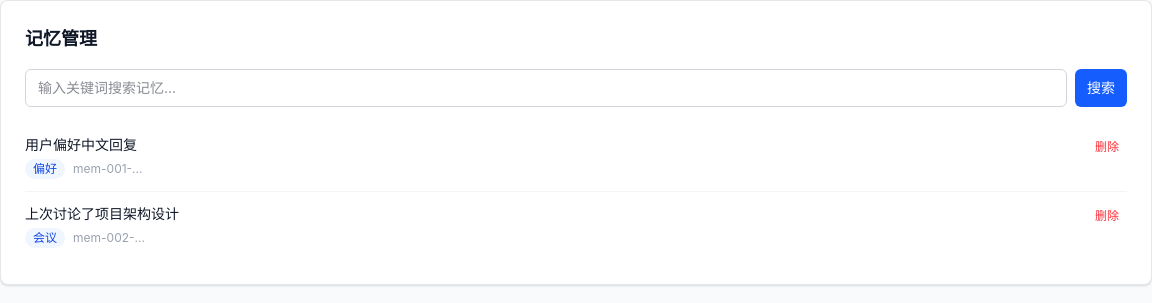
Test: MemoryPanel › 应支持搜索记忆
Expected: the text "用户偏好中文回复" is shown, [25,136,137,153]
Note: 输入搜索词并点击搜索
Type "偏好" into the search field labelled "搜索记忆".
click(546, 88); type("偏好")  # box [25,69,1067,107]
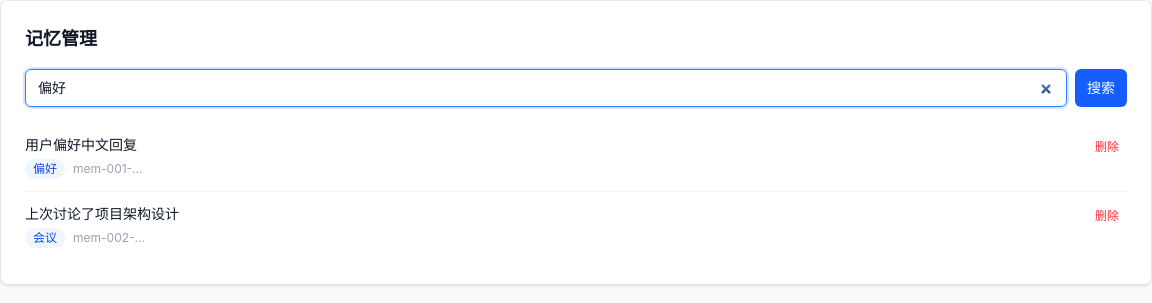
Click the button "搜索".
click(1101, 88)  # box [1075,69,1127,107]
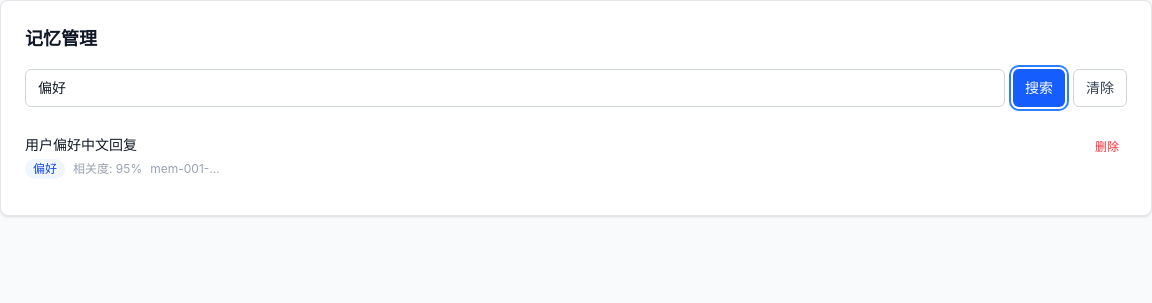
Result: the text "相关度: 95%" is shown at [73,161,142,177]
Result: the button "清除" is shown at [1073,69,1127,107]
